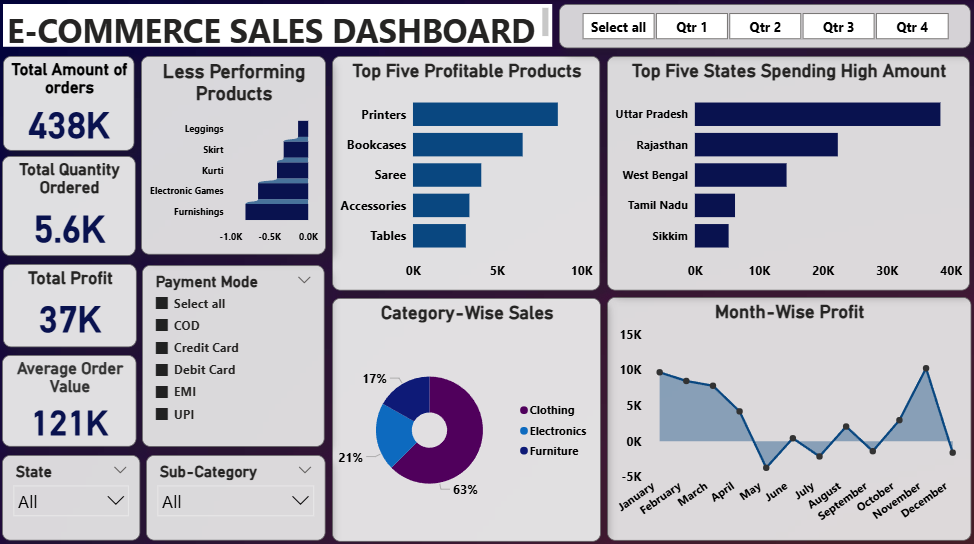

What the dashboard file says about the page in this screenshot:
{"tool":"powerbi","page":{"name":"Page 1","canvas":[1280,720],"ordinal":0},"visuals":[{"type":"textbox","box":[4.3,5.8,718.6,56.2],"z":0},{"type":"areaChart","title":"Month-Wise Profit","fields":{"Category":["Orders.Order Date.Variation.Date Hierarchy.Month"],"Y":["Sum(Details.Profit)"]},"box":[794.6,388.8,476.5,319.4],"z":1000},{"type":"barChart","title":"Top Five Profitable Products","fields":{"Category":["Details.Sub-Category"],"Y":["Sum(Details.Profit)"]},"box":[434.9,73.4,351.4,306.7],"z":2000},{"type":"donutChart","title":"Category-Wise Sales","fields":{"Category":["Details.Category"],"Y":["Sum(Details.Quantity)"]},"box":[434.8,389.9,352.2,318.8],"z":3000},{"type":"card","title":"Total Amount of orders","fields":{"Values":["Sum(Details.Amount)"]},"box":[5.5,74.3,172,123.9],"z":4000},{"type":"card","title":"Total Profit","fields":{"Values":["Sum(Details.Profit)"]},"box":[4.1,203.7,174.8,108.7],"z":5000},{"type":"card","title":"Average Order Value","fields":{"Values":["Sum(Details.Average Order Value)"]},"box":[5.5,450.1,176.2,134.9],"z":6000},{"type":"clusteredBarChart","title":"Top Five States Spending High Amount","fields":{"Category":["Orders.State"],"Y":["Sum(Details.Amount)"]},"box":[794.9,73.4,475.2,306.7],"z":7000},{"type":"slicer","fields":{"Values":["Orders.Order Date.Variation.Date Hierarchy.Quarter"]},"box":[731.5,5.8,538.6,57.6],"z":8000},{"type":"slicer","fields":{"Values":["Orders.State"]},"box":[2.9,596.2,181.4,112.3],"z":9000},{"type":"slicer","fields":{"Values":["Details.PaymentMode"]},"box":[185.8,347,239,237.6],"z":10000},{"type":"slicer","fields":{"Values":["Details.Sub-Category"]},"box":[191.5,596.2,234.7,112.3],"z":11000},{"type":"barChart","title":"Less Performing Products","fields":{"Category":["Details.Sub-Category"],"Y":["Sum(Details.Profit)","Sum(Details.Profit)"]},"box":[184.8,73.9,241.9,260.4],"z":12000},{"type":"card","title":"Total Orders","fields":{"Values":["Sum(Details.Quantity)"]},"box":[5.5,319.3,176.2,121.1],"z":13000}]}

Visuals, with their boxes in screenshot pixels (x1, y1, x2, y2), scaled from the page's 1280x720 canvas onto the 974x544 screenshot:
textbox: 3:4:550:47
"Month-Wise Profit" areaChart: 605:294:967:535
"Top Five Profitable Products" barChart: 331:55:598:287
"Category-Wise Sales" donutChart: 331:295:599:535
"Total Amount of orders" card: 4:56:135:150
"Total Profit" card: 3:154:136:236
"Average Order Value" card: 4:340:138:442
"Top Five States Spending High Amount" clusteredBarChart: 605:55:966:287
slicer - Orders.Order Date.Variation.Date Hierarchy.Quarter: 557:4:966:48
slicer - Orders.State: 2:450:140:535
slicer - Details.PaymentMode: 141:262:323:442
slicer - Details.Sub-Category: 146:450:324:535
"Less Performing Products" barChart: 141:56:325:253
"Total Orders" card: 4:241:138:333
